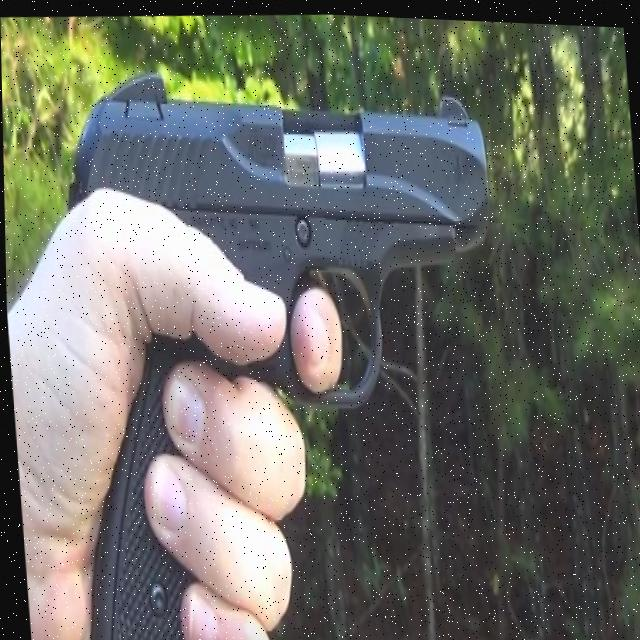pistol: (55, 51, 504, 427)
